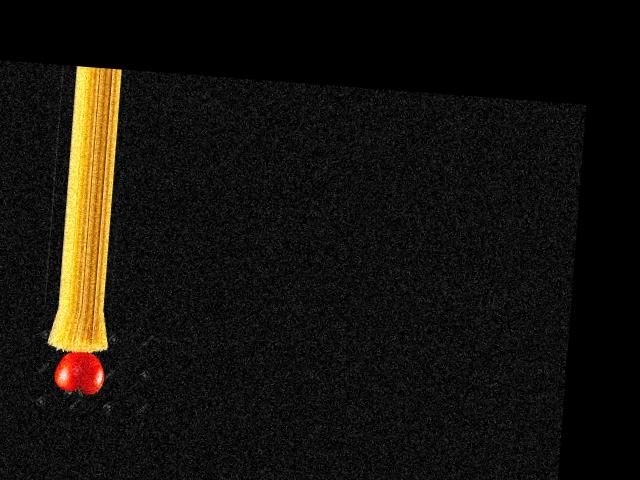tomato: (53, 349, 105, 395)
